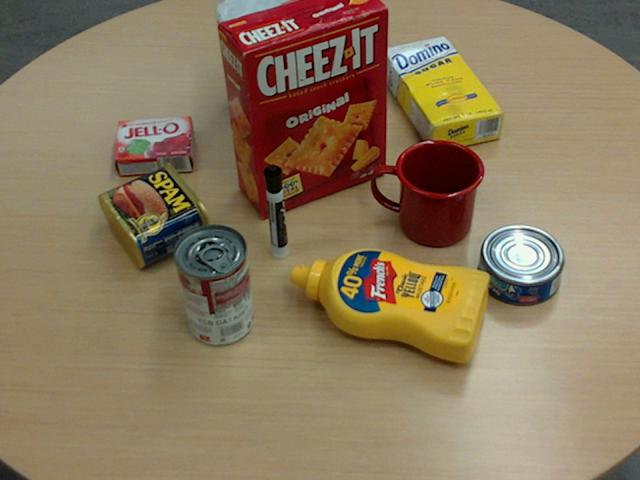cracker_box: (216, 0, 388, 217)
gelatin_box: (112, 115, 193, 174)
large_marker: (262, 165, 289, 259)
master_chef_can: (216, 0, 307, 130)
mug: (372, 138, 484, 245)
mustard_bottle: (289, 249, 489, 361)
potted_meat_can: (98, 160, 212, 267)
sugar_box: (380, 35, 504, 152)
tomato_soup_can: (171, 222, 253, 344)
tuna_fish_can: (477, 224, 564, 304)
